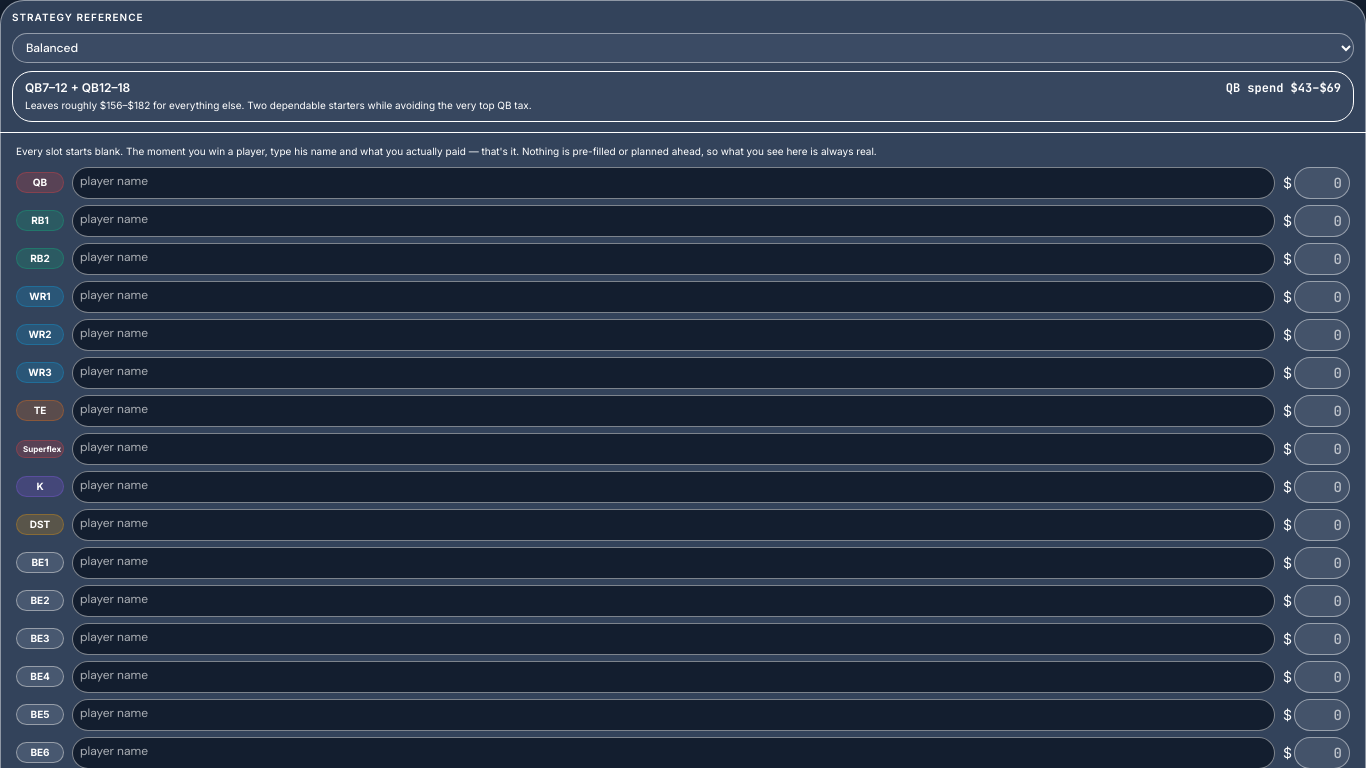
Test: PositionBudgetBar live interactions › clamps a single price to the total budget instead of an arbitrary cap
The width and height of the screenshot is (1366, 768).
Step 1. Type "9999" into the field named "QB price paid" → (1322, 183), box top-left (1294, 167), bottom-right (1350, 199)
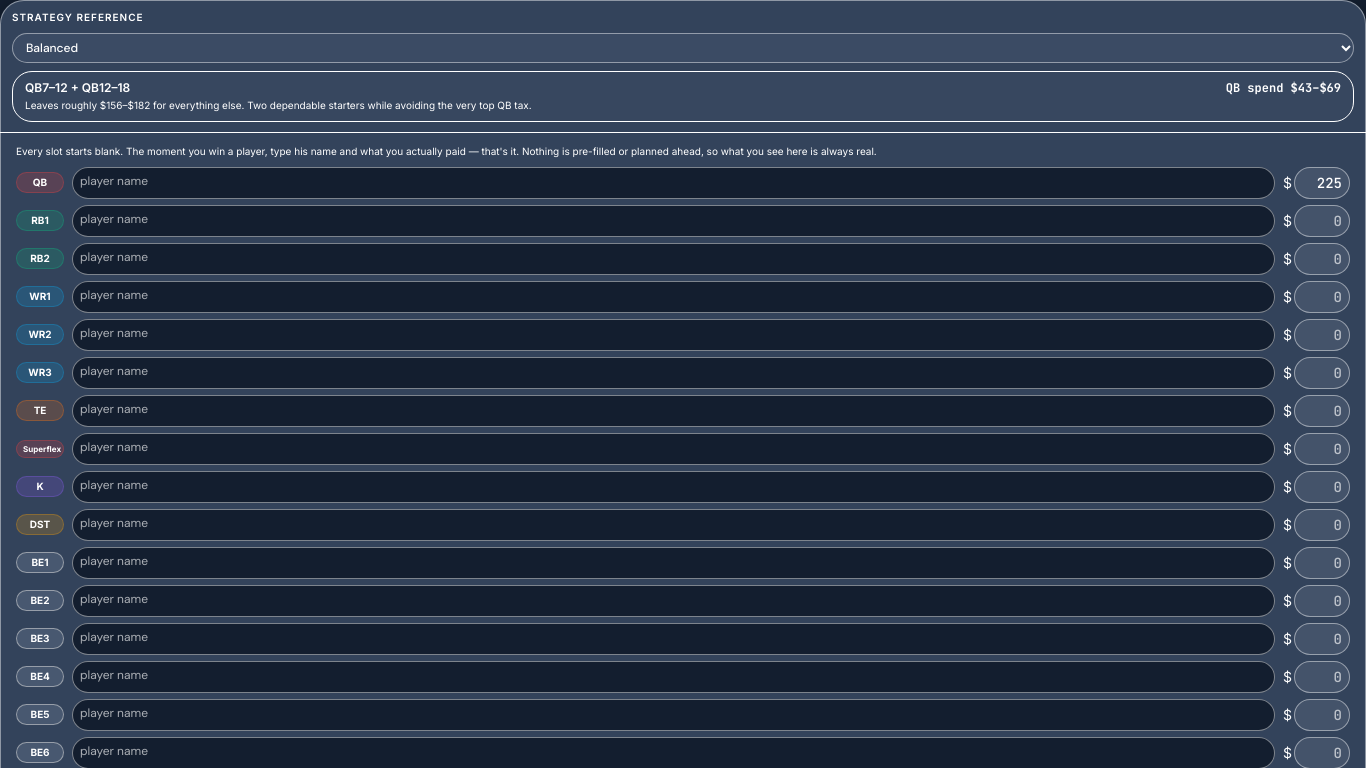
Expected: the field named "QB price paid" holds "225", top-left (1294, 167), bottom-right (1350, 199)
